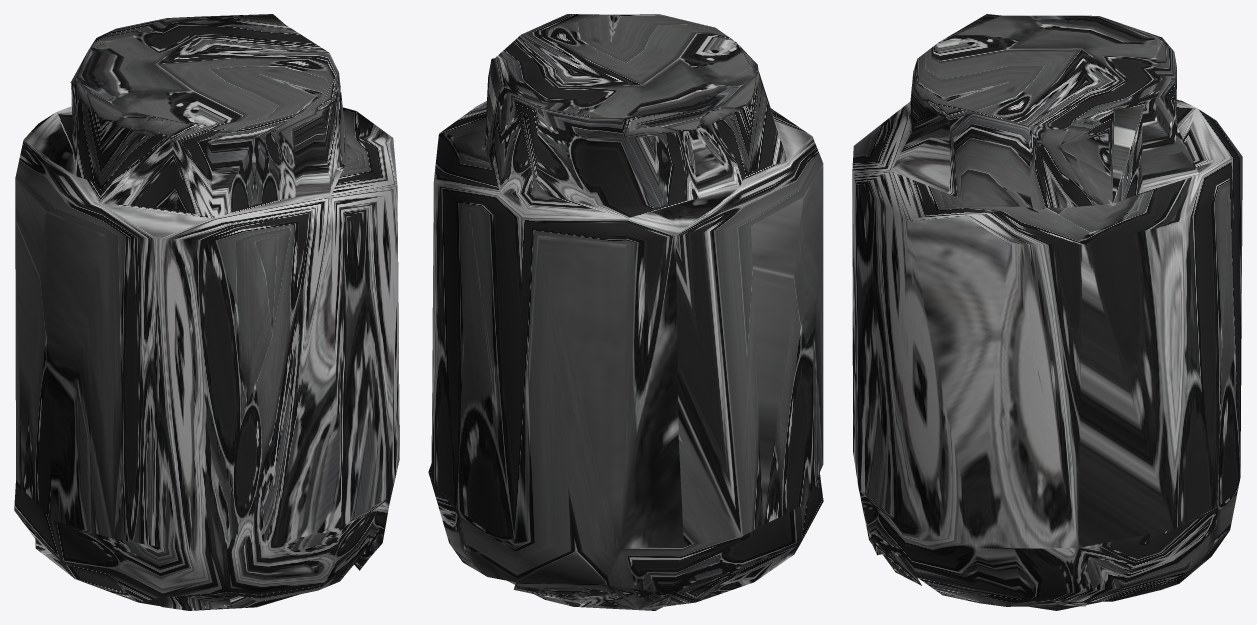
File: battery.glb
The picture shows the model from 3 angles, left to right: view 1: azimuth 30°, elevation 25°; view 2: azimuth 150°, elevation 25°; view 3: azimuth 270°, elevation 25°; orthographic projection.
Visible parts, largest first — view 1: battery; view 2: battery; view 3: battery.
Boxes of the visible parts, x1=… form: battery: x1=14, y1=14, x2=399, y2=610; battery: x1=428, y1=14, x2=823, y2=610; battery: x1=852, y1=14, x2=1242, y2=610.
Bounding box in the file's own units: 0.7114 × 0.9895 × 0.712.
Materials: 1 (1 with a texture image).
